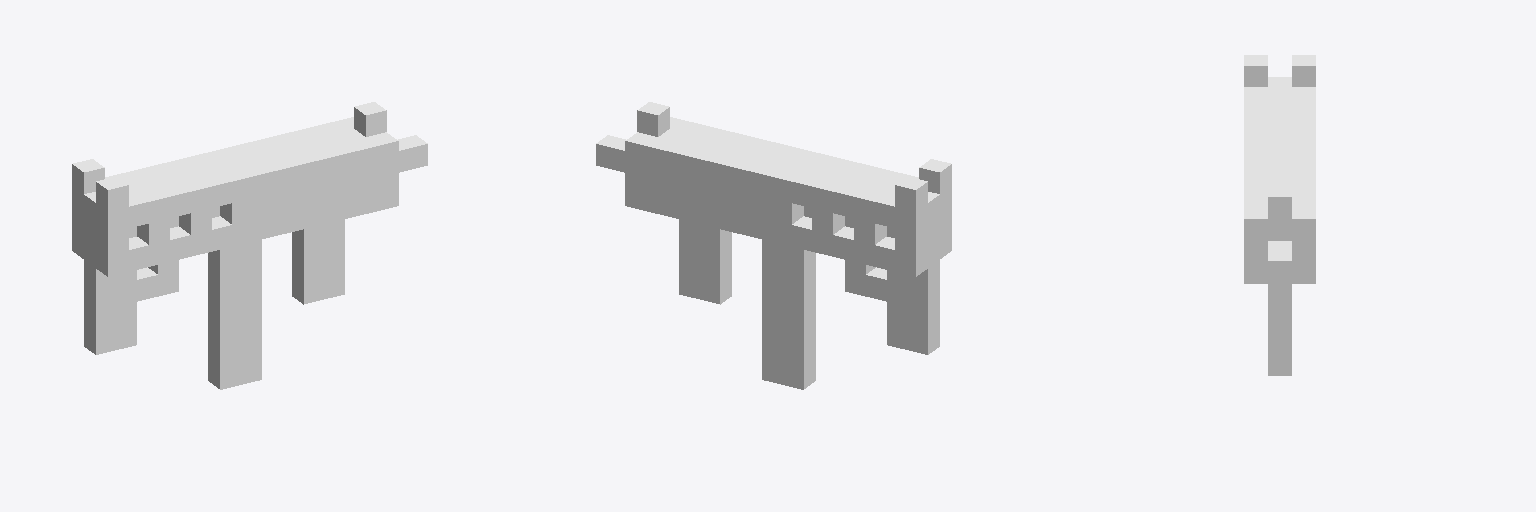
Rendered from smg000(16,4,16).obj.
The picture shows the model from 3 angles: view 1: azimuth 30°, elevation 25°; view 2: azimuth 150°, elevation 25°; view 3: azimuth 270°, elevation 25°; orthographic projection.
Bounding box in the file's own units: 16 × 11 × 3.